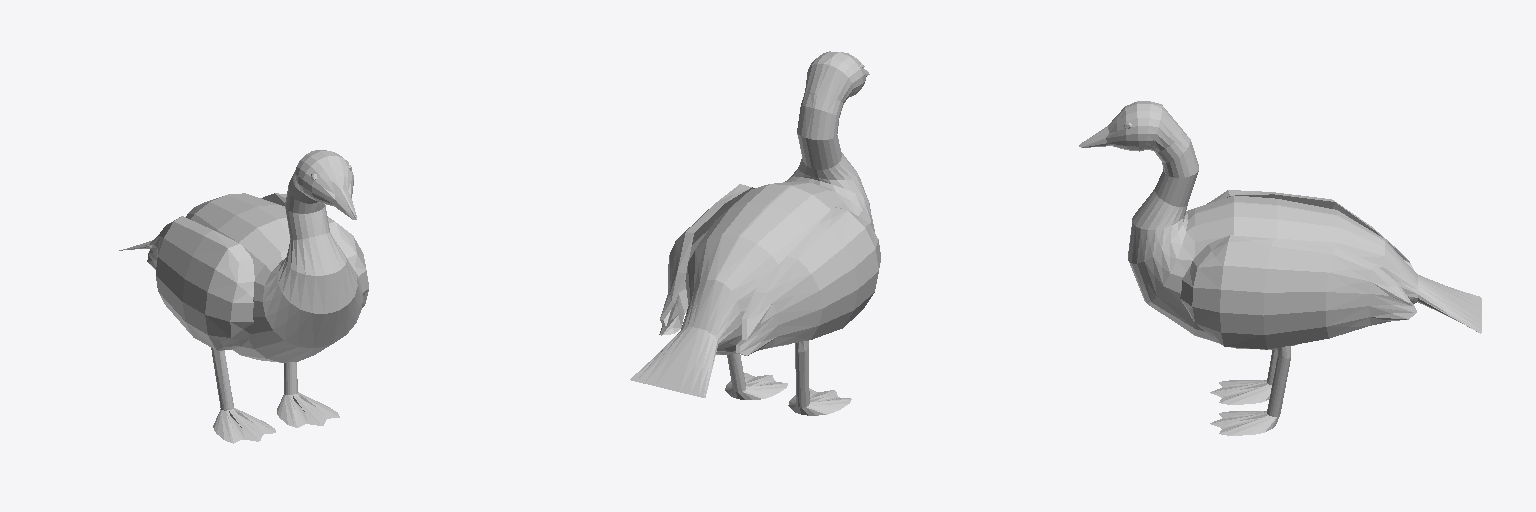
Rendered from goose.obj.
3 views of the same model, side by side, from view 1: azimuth 30°, elevation 25°; view 2: azimuth 150°, elevation 25°; view 3: azimuth 270°, elevation 25° (orthographic).
Parts seen in each view (by area): view 1: pCylinder2; view 2: pCylinder2; view 3: pCylinder2.
Boxes of the visible parts, box(x1,y1,x2,y2) form: pCylinder2: box(119, 150, 368, 443); pCylinder2: box(630, 51, 880, 415); pCylinder2: box(1079, 101, 1481, 435).
Size of the model in its own units: 0.5494 by 0.9764 by 1.17.